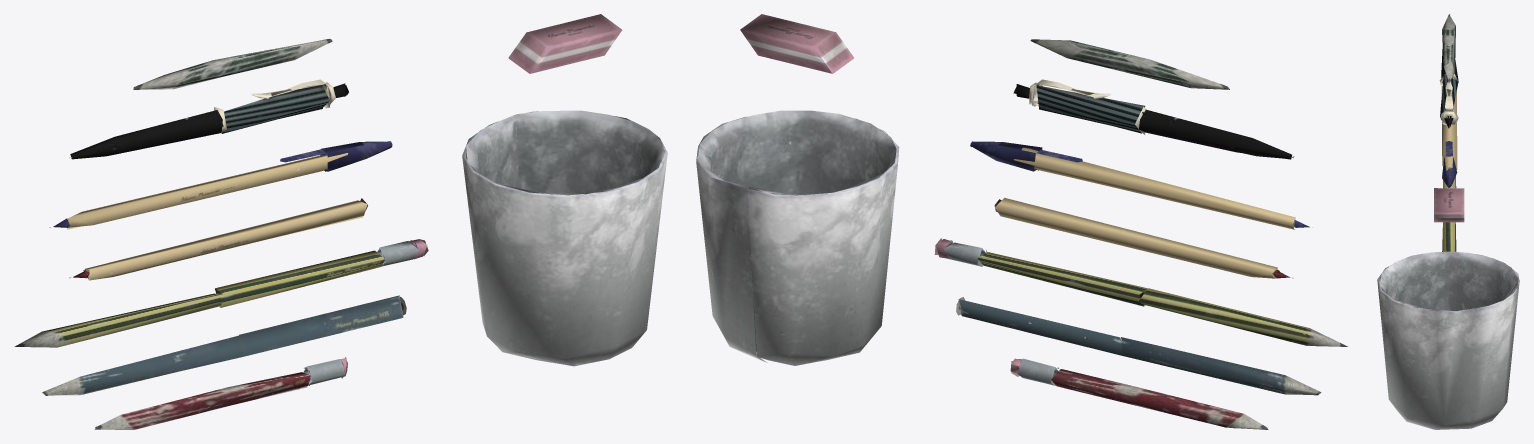
Rendered from prop_stationery.glb.
3 views of the same model, side by side, from view 1: azimuth 30°, elevation 25°; view 2: azimuth 150°, elevation 25°; view 3: azimuth 270°, elevation 25° (orthographic). The views are drawn at different scales.
Visible parts, largest first — view 1: prop_stationery; view 2: prop_stationery; view 3: prop_stationery.
Boxes of the visible parts, x1=… form: prop_stationery: x1=14, y1=14, x2=667, y2=429; prop_stationery: x1=696, y1=14, x2=1347, y2=429; prop_stationery: x1=1377, y1=14, x2=1519, y2=429.
Bounding box in the file's own units: 0.3304 × 0.1804 × 0.0908.
Materials: 1 (1 with a texture image).
